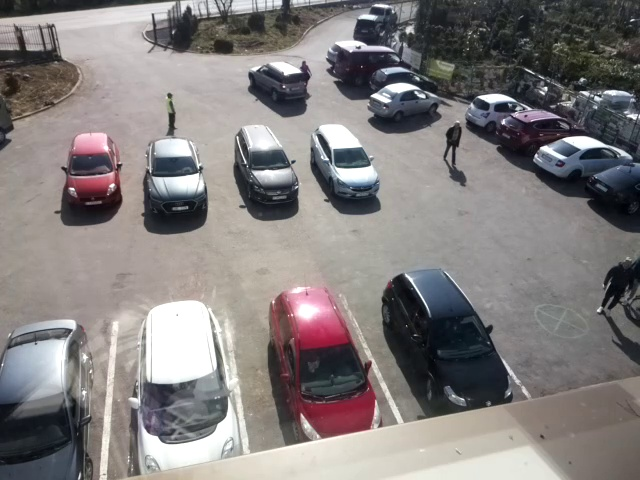car: (381, 267, 513, 413), (135, 299, 237, 474), (269, 287, 382, 442), (1, 319, 90, 480), (310, 123, 380, 202), (235, 125, 300, 209), (146, 138, 209, 220), (532, 135, 633, 182), (63, 133, 122, 213), (498, 109, 588, 152), (333, 45, 413, 82), (367, 81, 441, 119), (588, 163, 640, 214), (466, 94, 536, 131), (246, 63, 309, 102), (369, 64, 438, 96), (327, 39, 377, 67), (366, 1, 398, 33), (353, 12, 387, 42)
